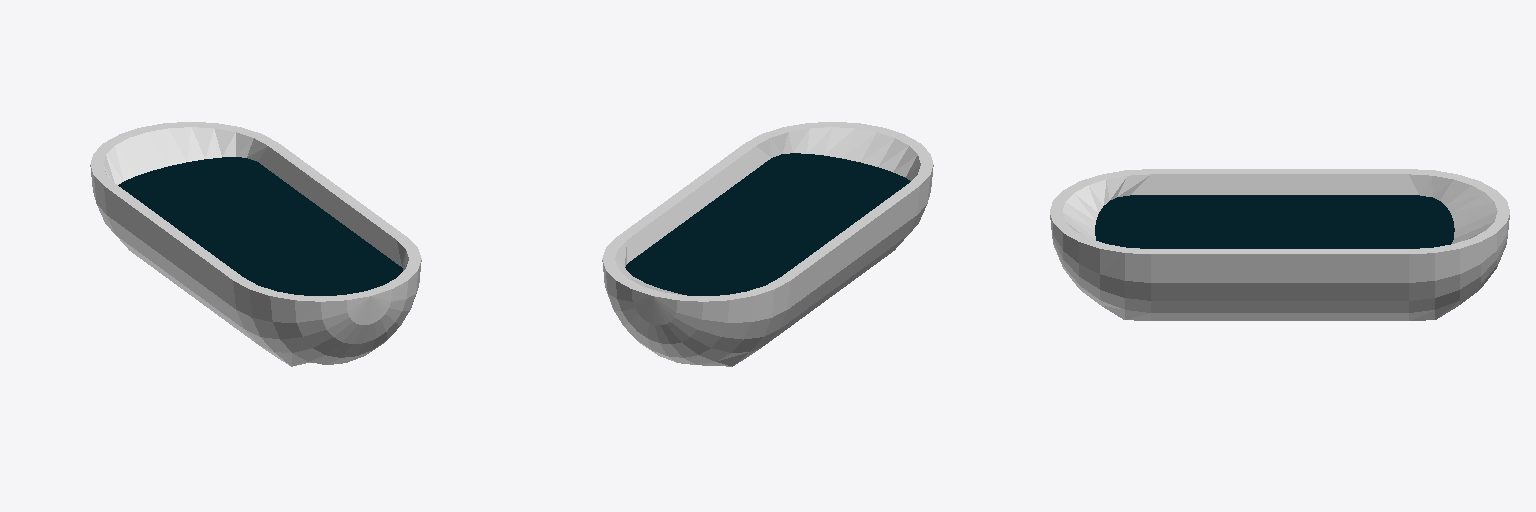
File: bath.obj
3 renders of one model, left to right at view 1: azimuth 30°, elevation 25°; view 2: azimuth 150°, elevation 25°; view 3: azimuth 270°, elevation 25°, orthographic.
Visible parts, largest first — view 1: Box001; view 2: Box001; view 3: Box001.
Part boxes in pixels (x1,y1,x2,y2): Box001: (90, 122, 421, 366); Box001: (602, 122, 933, 366); Box001: (1050, 169, 1509, 320).
Bounding box in the file's own units: 6.62 × 3.2 × 15.1.